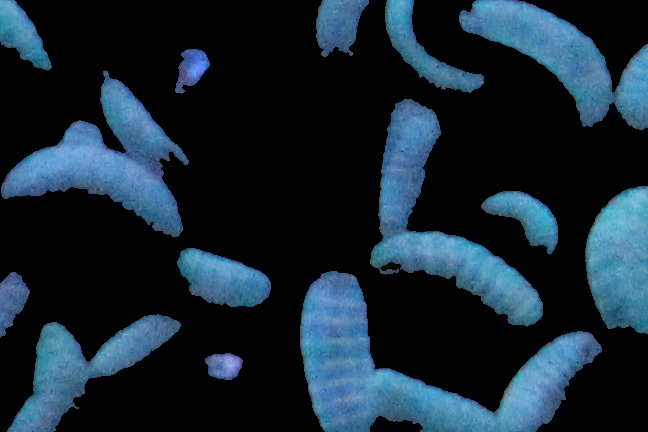larvae: (459, 1, 615, 135), (1, 143, 182, 240), (372, 232, 545, 326), (300, 267, 375, 432), (96, 67, 196, 186), (496, 330, 602, 432), (122, 244, 272, 308), (583, 187, 648, 333), (378, 1, 483, 86), (373, 100, 440, 233), (10, 323, 90, 431), (373, 366, 494, 432), (93, 311, 183, 378), (479, 189, 560, 254), (312, 1, 383, 69), (1, 1, 52, 78), (1, 269, 32, 364), (616, 39, 648, 131)
